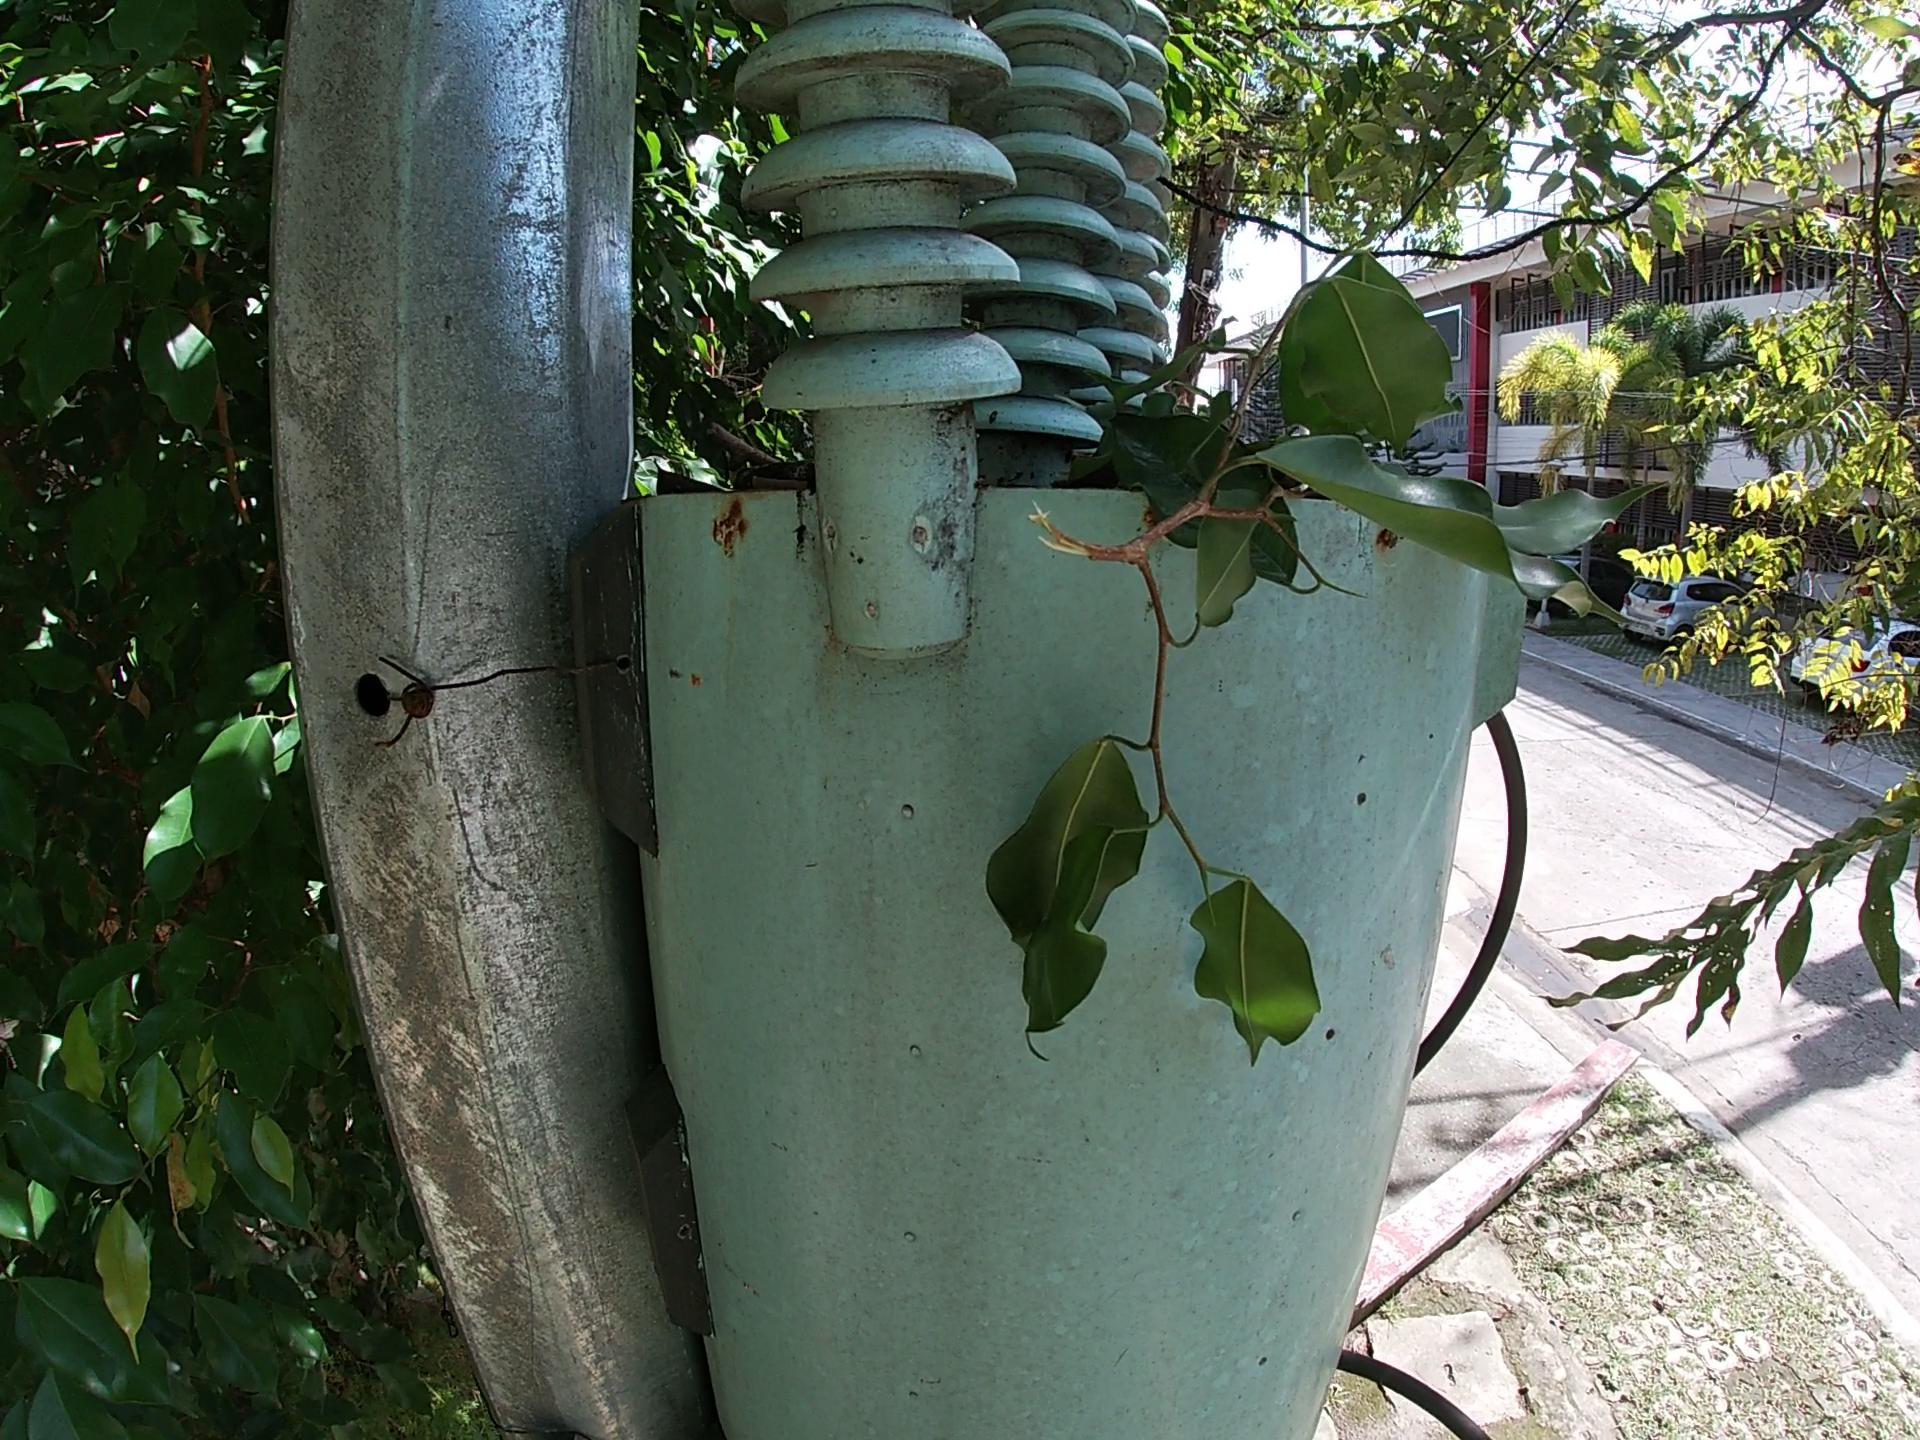branch with leaves: (915, 237, 1687, 1038)
leaf: (650, 448, 708, 496)
tree branch: (697, 416, 797, 461)
